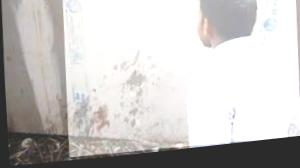spitting: (59, 0, 299, 162)
